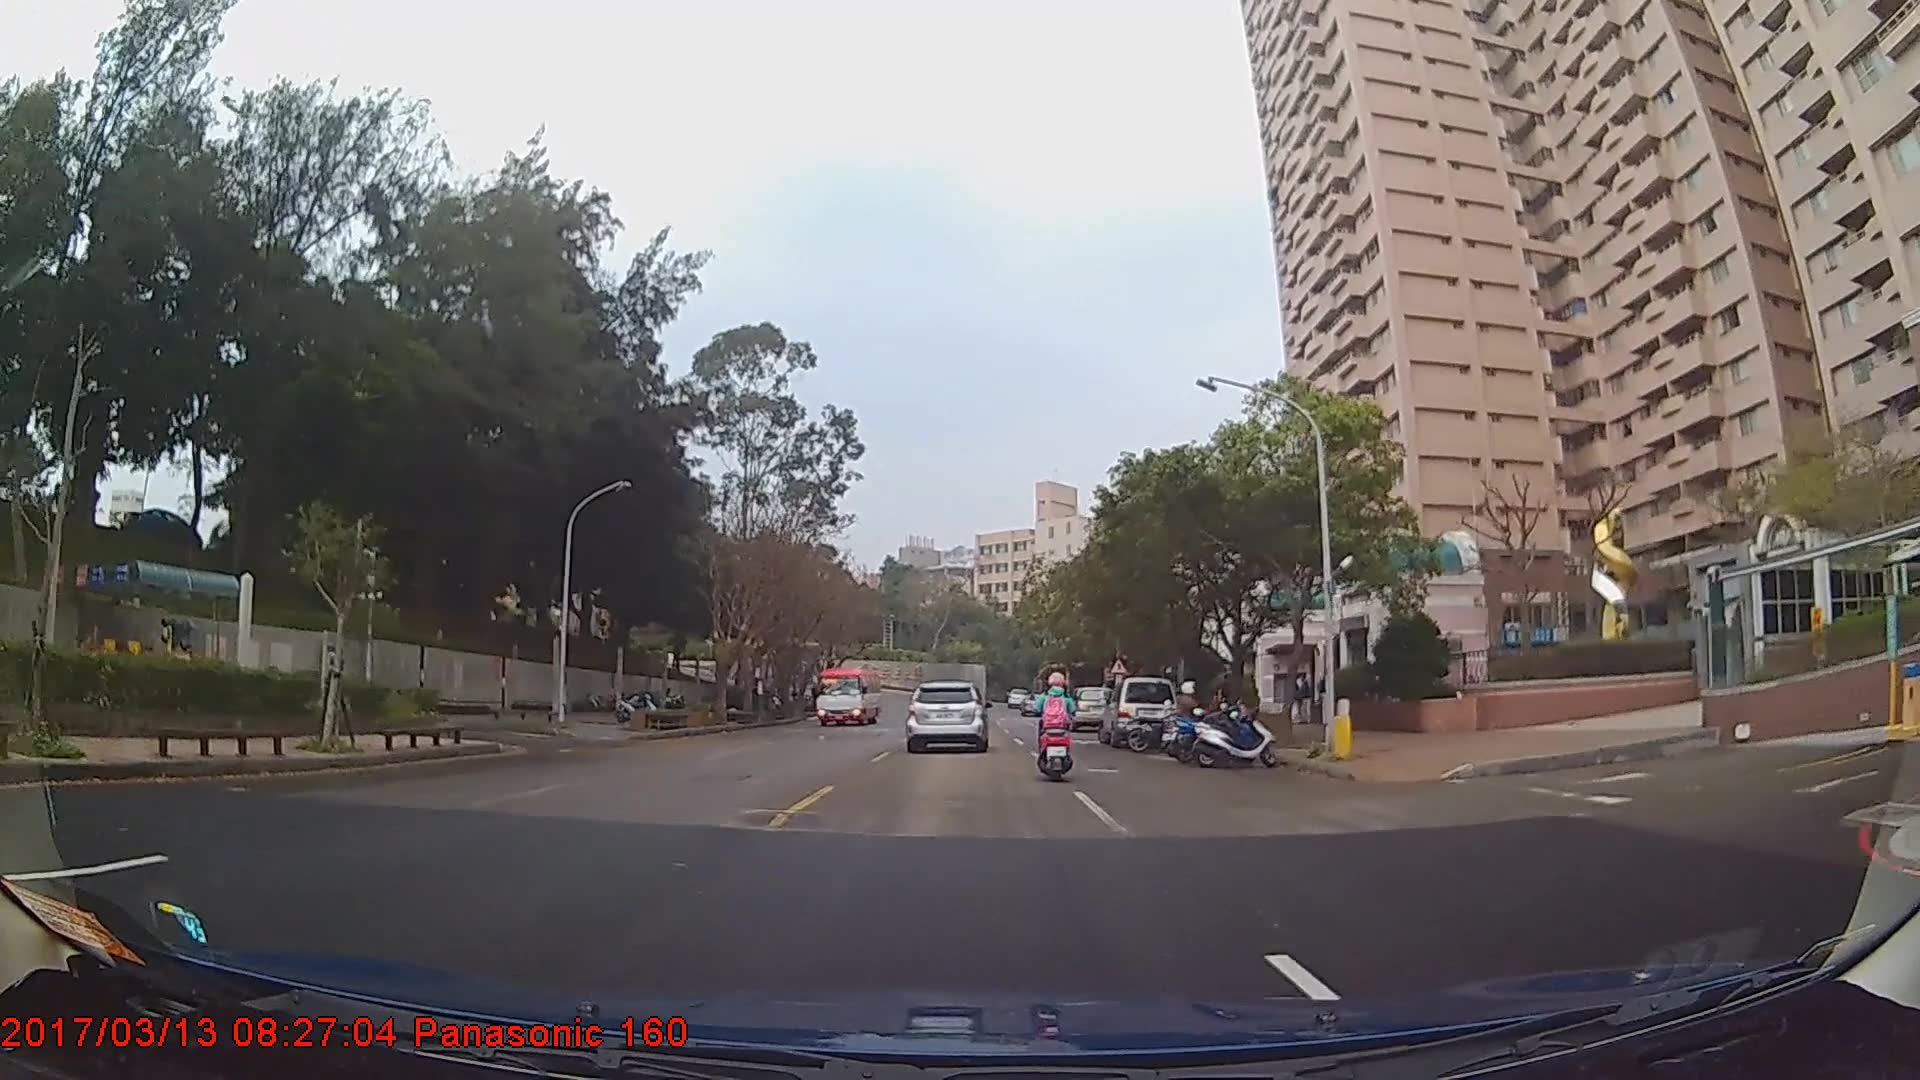rider: (1035, 671, 1081, 788), (1164, 679, 1212, 757)
vehicle: (904, 678, 986, 755), (1099, 675, 1180, 747), (813, 664, 881, 727), (1066, 682, 1114, 732)
